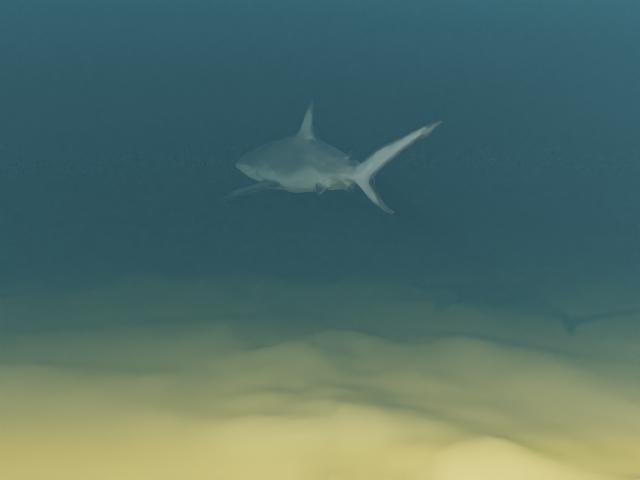Carribean Shark.001: (221, 102, 442, 213)
